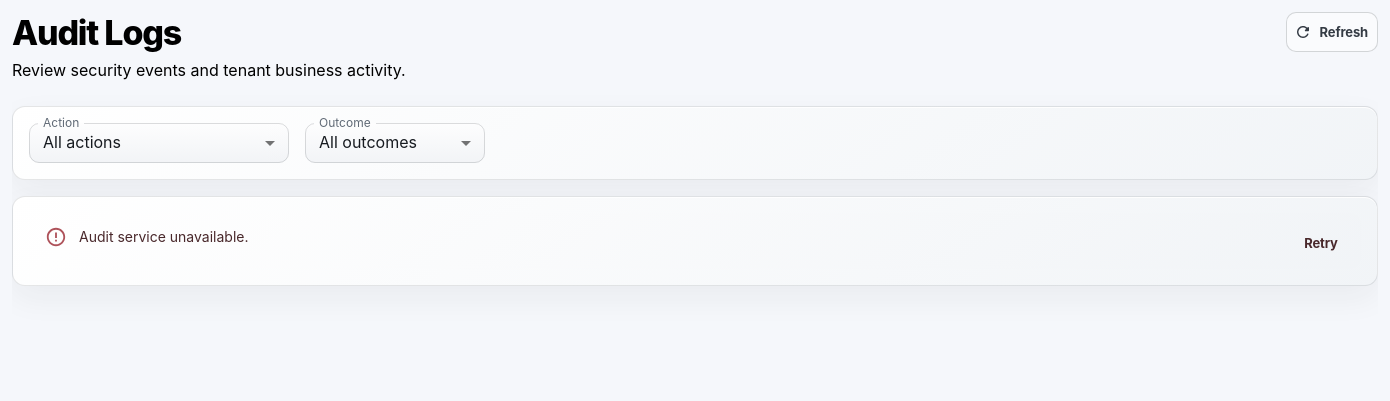
Test: AuditLogsPage › retries after the audit-log request fails
Expected: the text "Audit service unavailable." is shown, x1=79 y1=228 x2=248 y2=245
Click the button "Retry".
click(1321, 243)  # box x1=1289 y1=223 x2=1353 y2=263
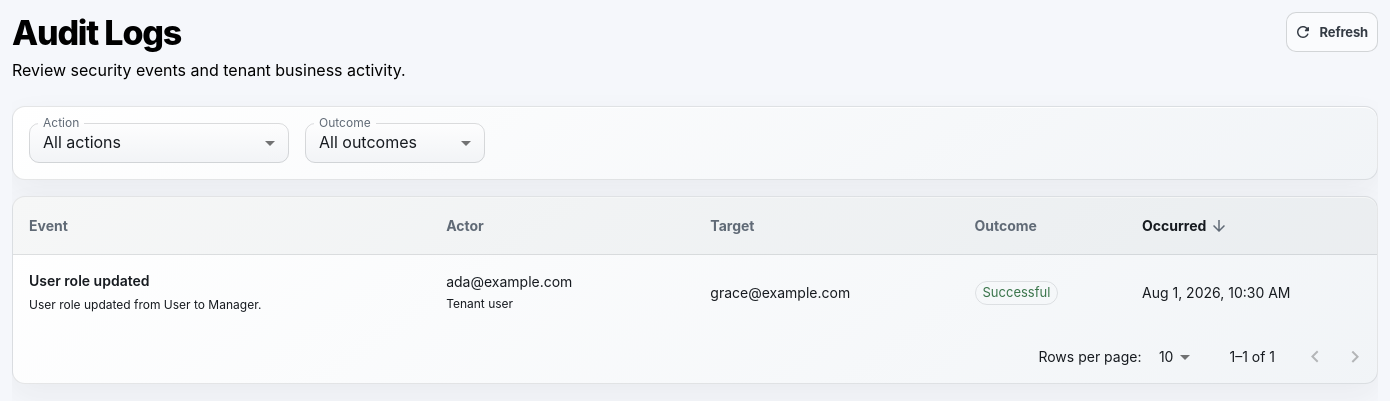
Expected: the text "User role updated" is shown, x1=29 y1=272 x2=150 y2=289
